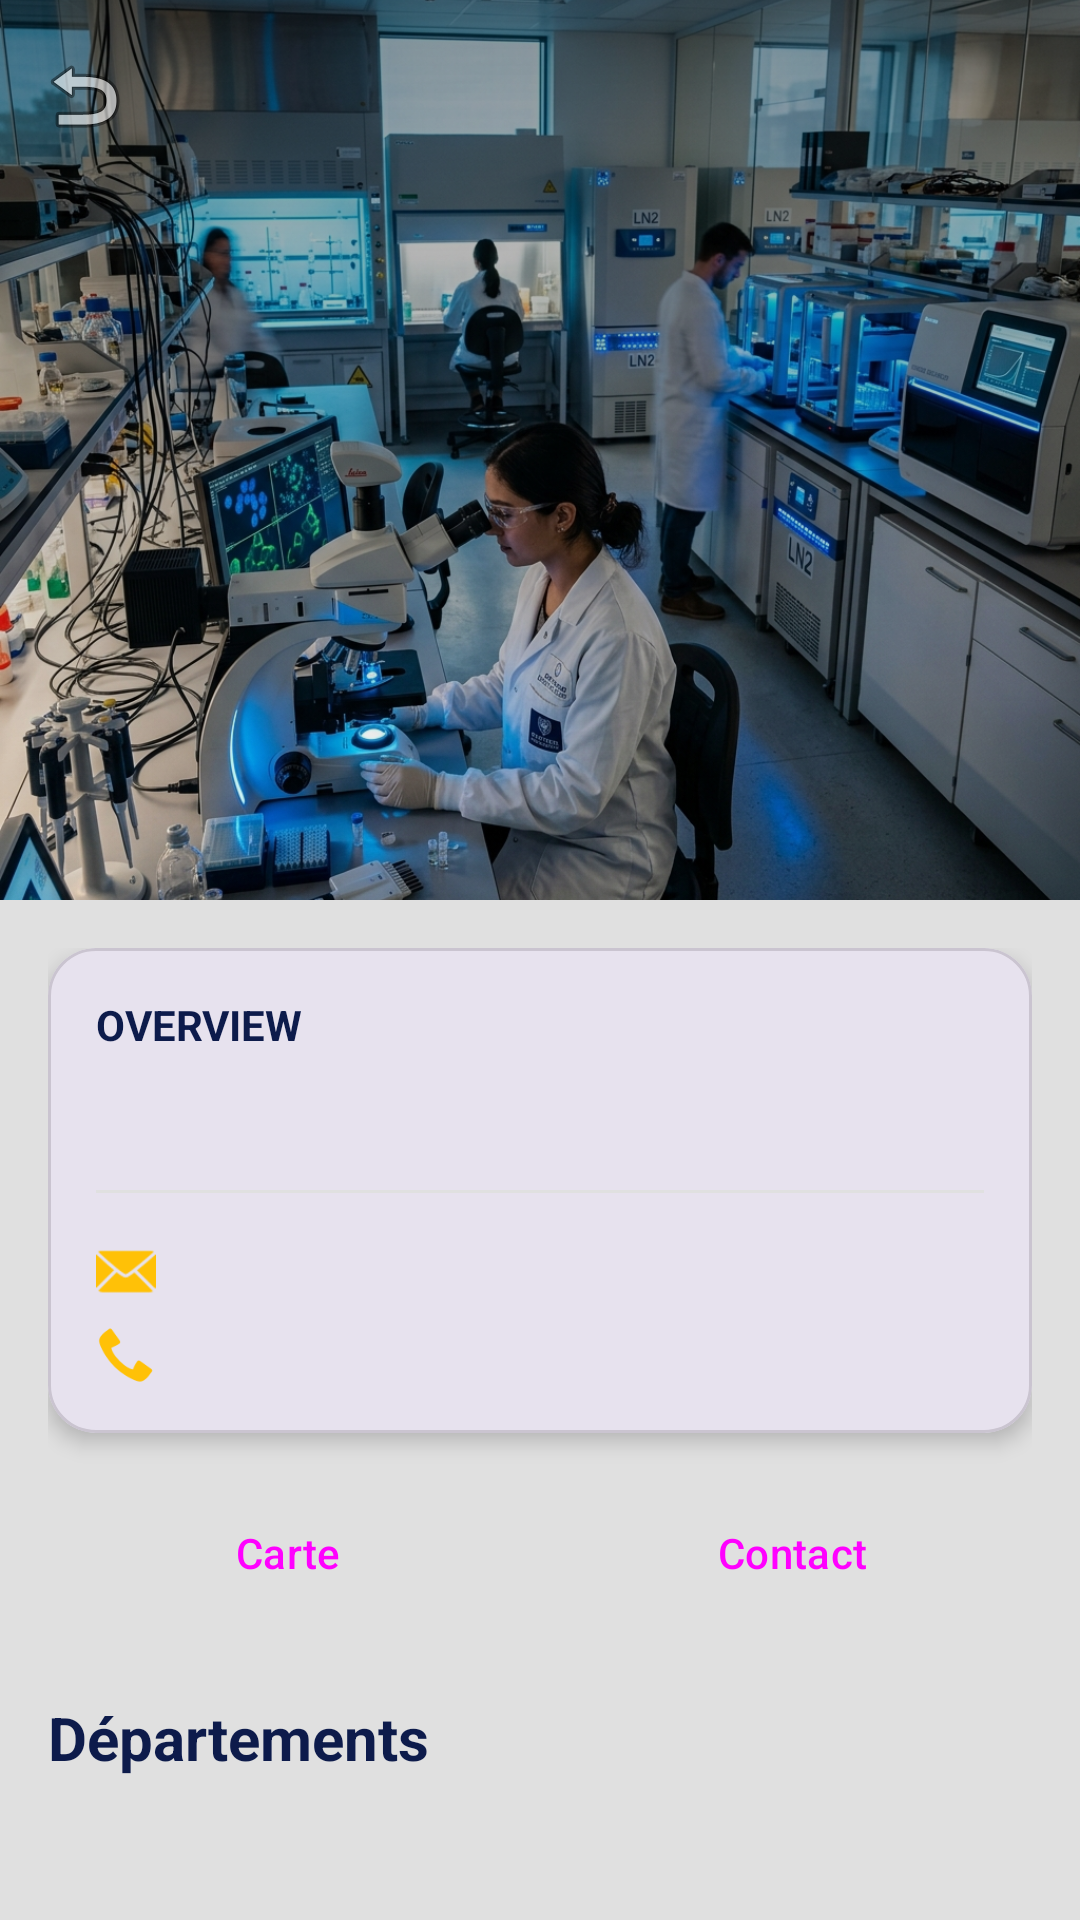

Locate icon controls on the screen. Image size 1080x1920, boxes as {"left": x1, "top": y1, "right": x2, "bottom": y2}.
email: {"left": 96, "top": 1250, "right": 156, "bottom": 1293}
phone call: {"left": 99, "top": 1328, "right": 153, "bottom": 1382}
